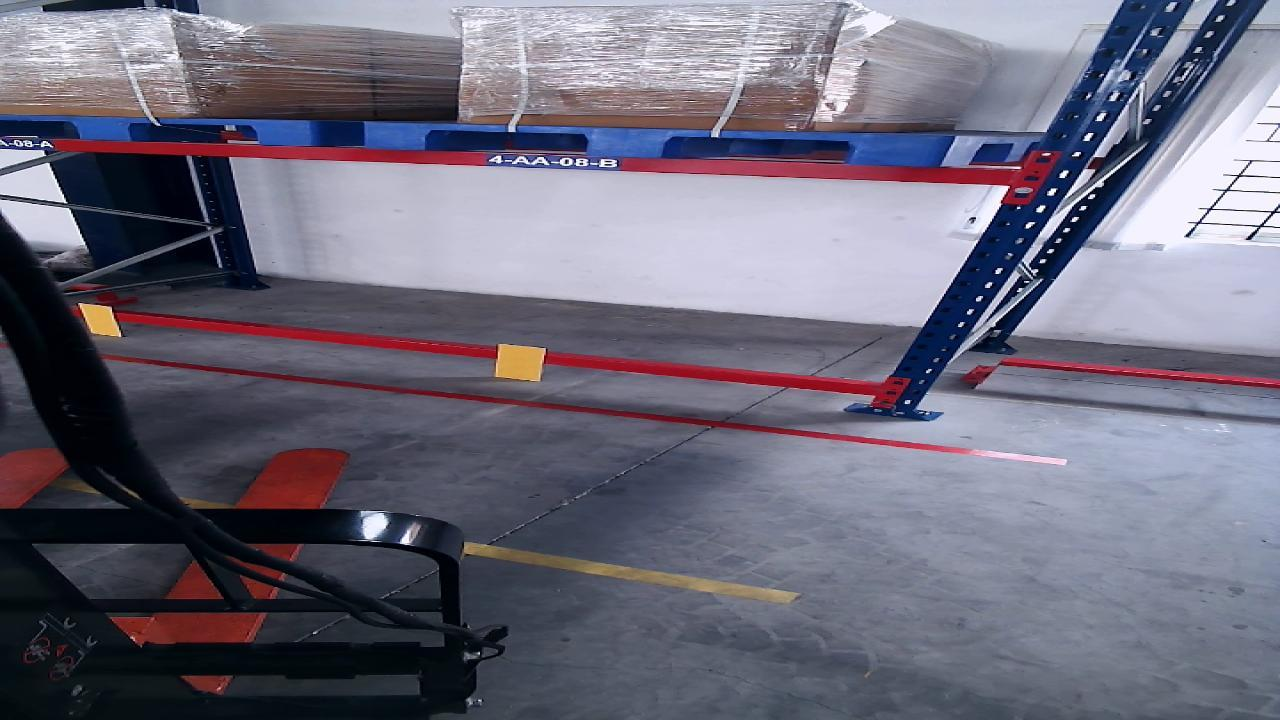h_rack: (70, 307, 875, 396), (2, 138, 1014, 185)
orange_strip: (495, 345, 544, 380), (78, 304, 119, 337)
red_line: (102, 353, 1065, 465)
small_pallet: (367, 122, 950, 165), (0, 117, 313, 146)
yellow_line: (465, 538, 800, 603)
